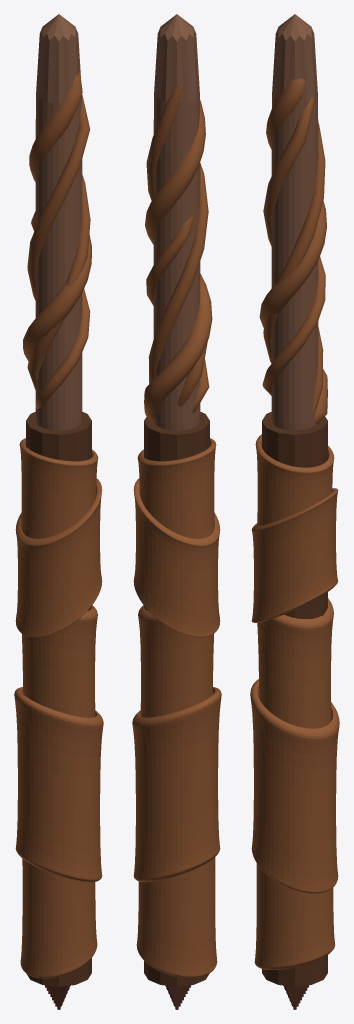
Rendered from Wand 374.glb.
3 views of the same model, side by side, from view 1: azimuth 30°, elevation 25°; view 2: azimuth 150°, elevation 25°; view 3: azimuth 330°, elevation 25° (orthographic).
Visible parts, largest first — view 1: GeneratedWand; view 2: GeneratedWand; view 3: GeneratedWand.
Part boxes in pixels (left/top/right/bottom): GeneratedWand: left=14, top=14, right=103, bottom=1009; GeneratedWand: left=132, top=14, right=221, bottom=1009; GeneratedWand: left=250, top=14, right=339, bottom=1009.
Bounding box in the file's own units: 0.0408 × 0.502 × 0.0408.
